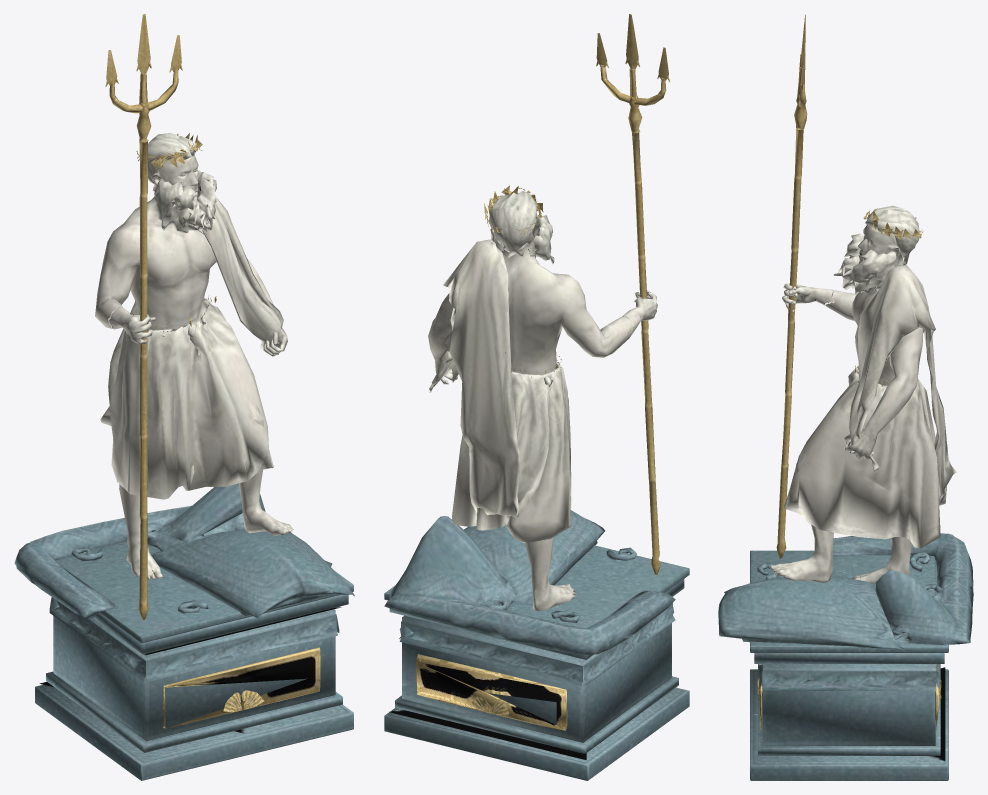
Rendered from guardian-tides-mobile-r2.glb.
3 renders of one model, left to right at view 1: azimuth 30°, elevation 25°; view 2: azimuth 150°, elevation 25°; view 3: azimuth 270°, elevation 25°, orthographic. The views are drawn at different scales.
Parts seen in each view (by area): view 1: TIDES__PEDESTAL, TIDES__CLOTH, TIDES__WAVES, TIDES__BODY, TIDES__TRIDENT, TIDES__DETAILS, TIDES__HAIR_BEARD, TIDES__FACE, TIDES__HAND_GRIP; view 2: TIDES__PEDESTAL, TIDES__CLOTH, TIDES__WAVES, TIDES__BODY, TIDES__DETAILS, TIDES__TRIDENT, TIDES__HAIR_BEARD, TIDES__HAND_GRIP; view 3: TIDES__PEDESTAL, TIDES__CLOTH, TIDES__WAVES, TIDES__BODY, TIDES__TRIDENT, TIDES__HAIR_BEARD, TIDES__HAND_GRIP, TIDES__FACE, TIDES__DETAILS.
Part boxes in pixels (x1=…): TIDES__PEDESTAL: x1=35, y1=541, x2=353, y2=780; TIDES__CLOTH: x1=100, y1=196, x2=283, y2=499; TIDES__WAVES: x1=14, y1=483, x2=354, y2=618; TIDES__BODY: x1=95, y1=176, x2=293, y2=579; TIDES__TRIDENT: x1=105, y1=14, x2=182, y2=619; TIDES__DETAILS: x1=132, y1=133, x2=320, y2=728; TIDES__HAIR_BEARD: x1=148, y1=133, x2=216, y2=234; TIDES__FACE: x1=152, y1=156, x2=199, y2=200; TIDES__HAND_GRIP: x1=109, y1=308, x2=155, y2=344; TIDES__PEDESTAL: x1=384, y1=545, x2=689, y2=780; TIDES__CLOTH: x1=429, y1=239, x2=571, y2=542; TIDES__WAVES: x1=384, y1=510, x2=675, y2=654; TIDES__BODY: x1=428, y1=245, x2=633, y2=610; TIDES__DETAILS: x1=416, y1=185, x2=567, y2=730; TIDES__TRIDENT: x1=596, y1=14, x2=669, y2=574; TIDES__HAIR_BEARD: x1=489, y1=191, x2=554, y2=264; TIDES__HAND_GRIP: x1=622, y1=290, x2=657, y2=333; TIDES__PEDESTAL: x1=750, y1=550, x2=948, y2=780; TIDES__CLOTH: x1=784, y1=265, x2=956, y2=548; TIDES__WAVES: x1=718, y1=533, x2=973, y2=649; TIDES__BODY: x1=770, y1=253, x2=925, y2=583; TIDES__TRIDENT: x1=776, y1=14, x2=807, y2=558; TIDES__HAIR_BEARD: x1=833, y1=205, x2=919, y2=295; TIDES__HAND_GRIP: x1=782, y1=283, x2=834, y2=312; TIDES__FACE: x1=858, y1=224, x2=900, y2=266; TIDES__DETAILS: x1=757, y1=208, x2=941, y2=730.
Size of the model in its own units: 3.37 by 9.9 by 3.35.
Materials: 3 (3 with a texture image).
